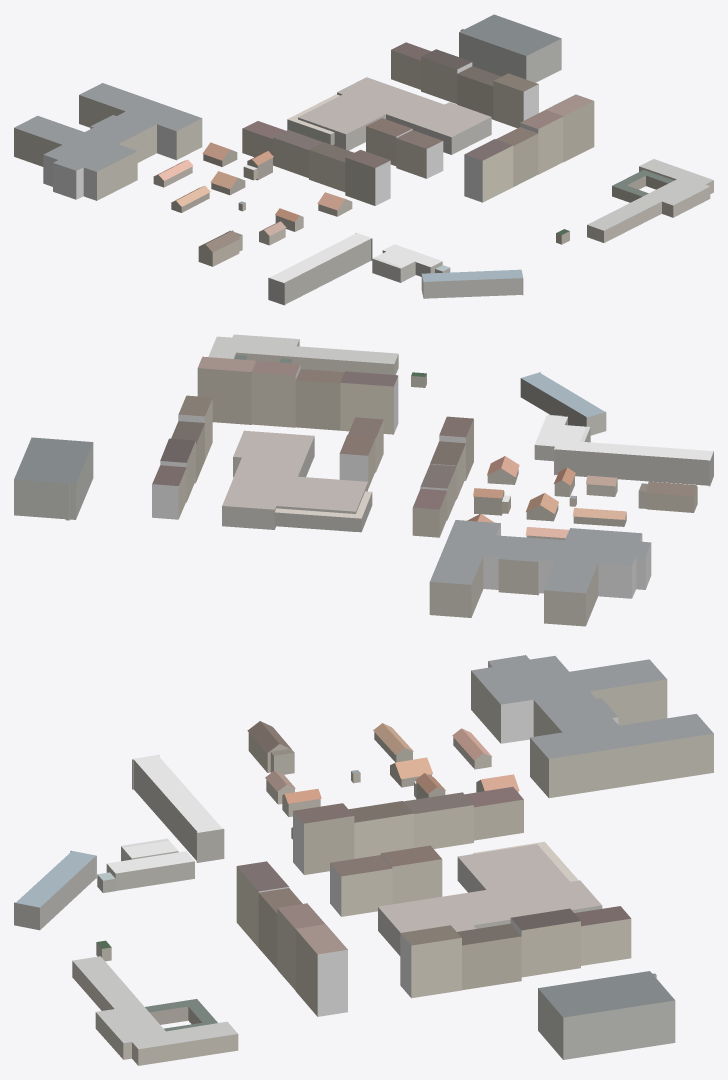
The picture shows the model from 3 angles, top to bottom: view 1: azimuth 30°, elevation 25°; view 2: azimuth 150°, elevation 25°; view 3: azimuth 270°, elevation 25°; orthographic projection. The views are drawn at different scales.
Parts seen in each view (by area): view 1: tuile; view 2: tuile; view 3: tuile.
Part boxes in pixels (box(x1,y1,x2,y2)): tuile: box(14, 14, 713, 305); tuile: box(14, 334, 713, 626); tuile: box(14, 655, 713, 1065).
Bounding box in the file's own units: 279 × 34.53 × 239.
